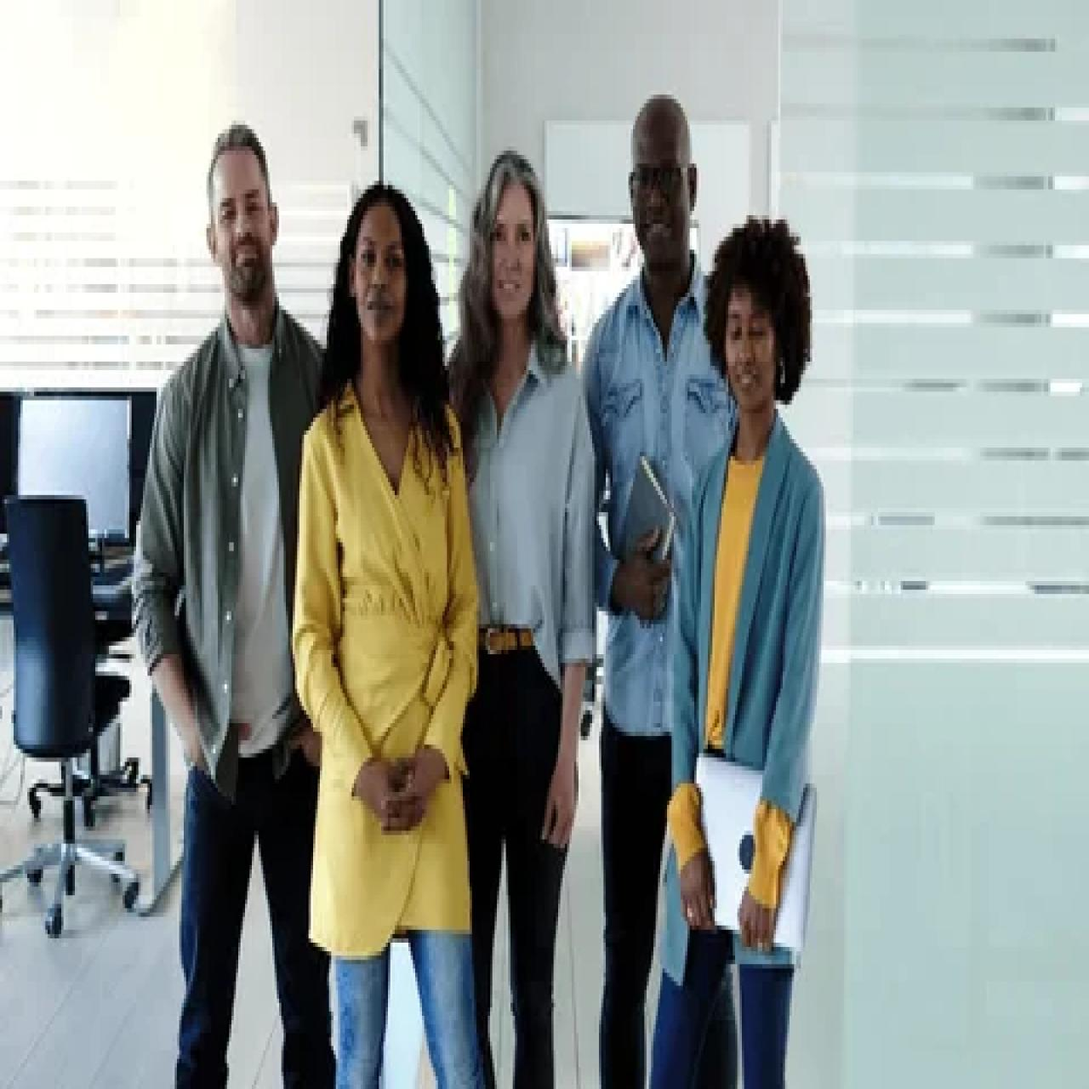NO_Safety_Vest: (308, 411, 463, 820), (185, 348, 313, 733), (601, 293, 724, 664), (457, 361, 579, 674), (704, 443, 813, 766)
Person: (119, 81, 334, 1089), (289, 151, 483, 1089), (443, 130, 604, 1089), (657, 210, 828, 1089), (590, 76, 737, 1089)
